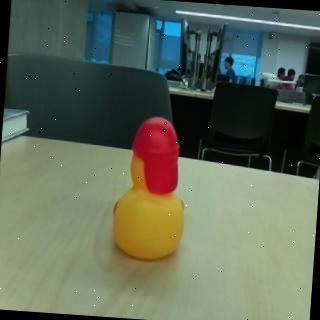duck_specialty: (109, 112, 194, 263)
